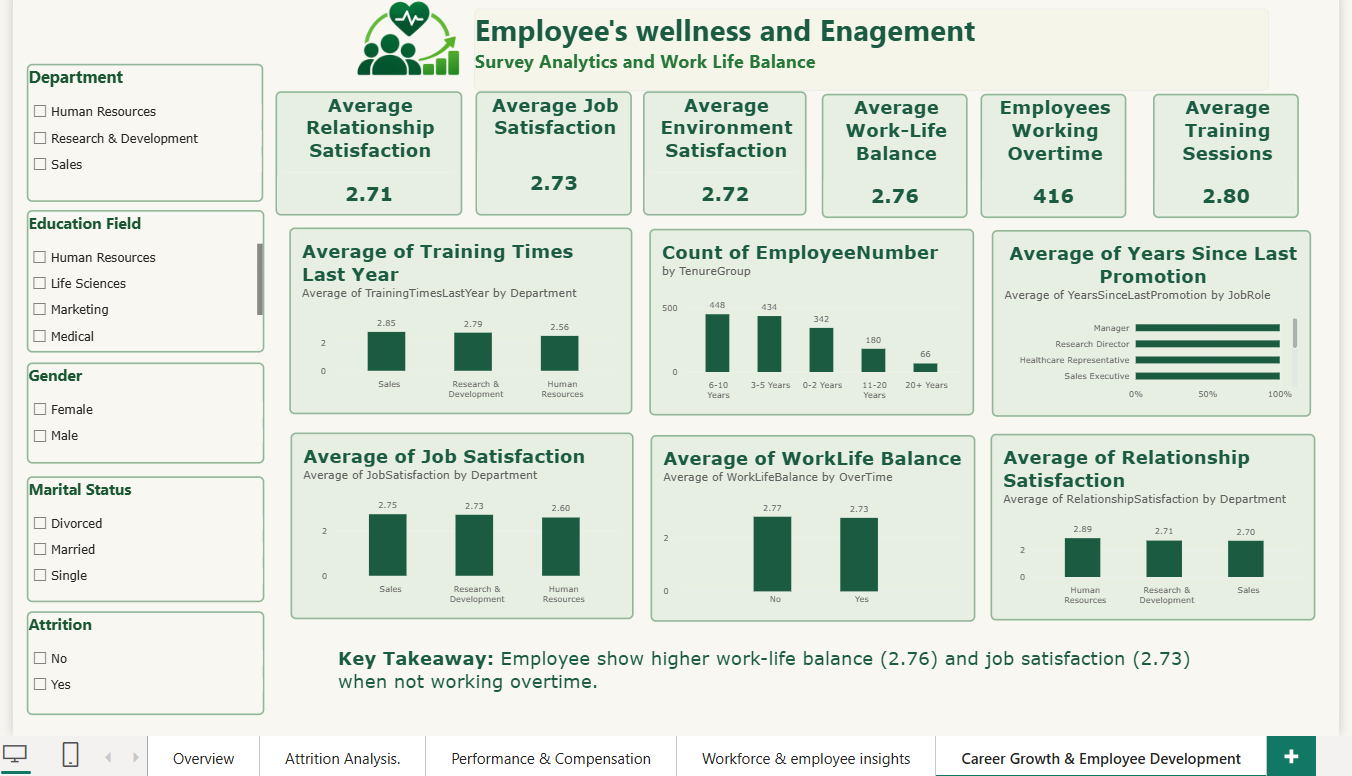

The dashboard page shown, as its layout file describes it:
{"tool":"powerbi","page":{"name":"Career Growth & Employee Development","canvas":[1920,1080],"ordinal":4},"visuals":[{"type":"textbox","box":[668,28,1150,118],"z":0},{"type":"cardVisual","title":"Average Relationship Satisfaction","fields":{"Data":["Avg(HR_Analytics_Final.RelationshipSatisfaction)"]},"box":[380,145.7,270,180],"z":1000},{"type":"slicer","title":"Education Field","fields":{"Values":["HR_Analytics_Final.EducationField"]},"box":[19.5,318,344,206],"z":2000},{"type":"slicer","title":"Gender","fields":{"Values":["HR_Analytics_Final.Gender"]},"box":[19.5,540,344,146],"z":3000},{"type":"slicer","title":"Department","fields":{"Values":["HR_Analytics_Final.Department"]},"box":[20,107.5,342.5,200],"z":4000},{"type":"slicer","title":"Marital Status","fields":{"Values":["HR_Analytics_Final.MaritalStatus"]},"box":[19.5,704,344,182],"z":5000},{"type":"slicer","title":"Attrition","fields":{"Values":["HR_Analytics_Final.Attrition"]},"box":[19.5,900,344,150],"z":6000},{"type":"cardVisual","title":"Average Job Satisfaction","fields":{"Data":["Avg(HR_Analytics_Final.JobInvolvement)"]},"box":[670,146.7,226.7,180],"z":7000},{"type":"cardVisual","title":"Average Environment Satisfaction","fields":{"Data":["Avg(HR_Analytics_Final.EnvironmentSatisfaction)"]},"box":[912.2,146.7,237.1,180],"z":8000},{"type":"cardVisual","title":"Average Work-Life Balance","fields":{"Data":["Avg(HR_Analytics_Final.WorkLifeBalance)"]},"box":[1171.1,150,211.4,180],"z":9000},{"type":"cardVisual","title":"Employees Working Overtime","fields":{"Data":["CountNonNull(HR_Analytics_Final.EmployeeNumber)"]},"box":[1400,150,211.4,180],"z":10000},{"type":"cardVisual","title":"Average Training Sessions","fields":{"Data":["Avg(HR_Analytics_Final.TrainingTimesLastYear)"]},"box":[1650,150,211.4,180],"z":11000},{"type":"columnChart","title":"Average of Training Times Last Year","fields":{"Category":["HR_Analytics_Final.Department"],"Y":["Avg(HR_Analytics_Final.TrainingTimesLastYear)"]},"box":[400,343.3,496.7,270],"z":12000},{"type":"columnChart","fields":{"Category":["HR_Analytics_Final.TenureGroup"],"Y":["CountNonNull(HR_Analytics_Final.EmployeeNumber)"]},"box":[920.2,346,470,270],"z":13000},{"type":"image","box":[330,0,490,150],"z":14000},{"type":"hundredPercentStackedBarChart","title":"Average of Years Since Last Promotion","fields":{"Category":["HR_Analytics_Final.JobRole"],"Y":["Avg(HR_Analytics_Final.YearsSinceLastPromotion)"]},"box":[1416.7,346.7,462.5,270],"z":15000},{"type":"columnChart","title":"Average of Job Satisfaction","fields":{"Category":["HR_Analytics_Final.Department"],"Y":["Avg(HR_Analytics_Final.JobSatisfaction)"]},"box":[402,641.3,496.7,270],"z":16000},{"type":"columnChart","title":"Average of WorkLife Balance","fields":{"Category":["HR_Analytics_Final.OverTime"],"Y":["Avg(HR_Analytics_Final.WorkLifeBalance)"]},"box":[922.2,644,470,270],"z":17000},{"type":"columnChart","title":"Average of Relationship Satisfaction","fields":{"Category":["HR_Analytics_Final.Department"],"Y":["Avg(HR_Analytics_Final.RelationshipSatisfaction)"]},"box":[1415,642.5,470,270],"z":18000},{"type":"textbox","box":[470,950,1286.7,110],"z":19000}]}

Visuals, with their boxes on the page's 1920x1080 design canvas (x1, y1, x2, y2). These are canvas units, not pixel positions in the 1352x776 screenshot, which may show the page scaled, cropped or inside an application window:
textbox: (668,28,1818,146)
"Average Relationship Satisfaction" cardVisual: (380,146,650,326)
"Education Field" slicer: (20,318,364,524)
"Gender" slicer: (20,540,364,686)
"Department" slicer: (20,108,362,308)
"Marital Status" slicer: (20,704,364,886)
"Attrition" slicer: (20,900,364,1050)
"Average Job Satisfaction" cardVisual: (670,147,897,327)
"Average Environment Satisfaction" cardVisual: (912,147,1149,327)
"Average Work-Life Balance" cardVisual: (1171,150,1382,330)
"Employees Working Overtime" cardVisual: (1400,150,1611,330)
"Average Training Sessions" cardVisual: (1650,150,1861,330)
"Average of Training Times Last Year" columnChart: (400,343,897,613)
columnChart - HR_Analytics_Final.TenureGroup x CountNonNull(HR_Analytics_Final.EmployeeNumber): (920,346,1390,616)
image: (330,0,820,150)
"Average of Years Since Last Promotion" hundredPercentStackedBarChart: (1417,347,1879,617)
"Average of Job Satisfaction" columnChart: (402,641,899,911)
"Average of WorkLife Balance" columnChart: (922,644,1392,914)
"Average of Relationship Satisfaction" columnChart: (1415,642,1885,912)
textbox: (470,950,1757,1060)
